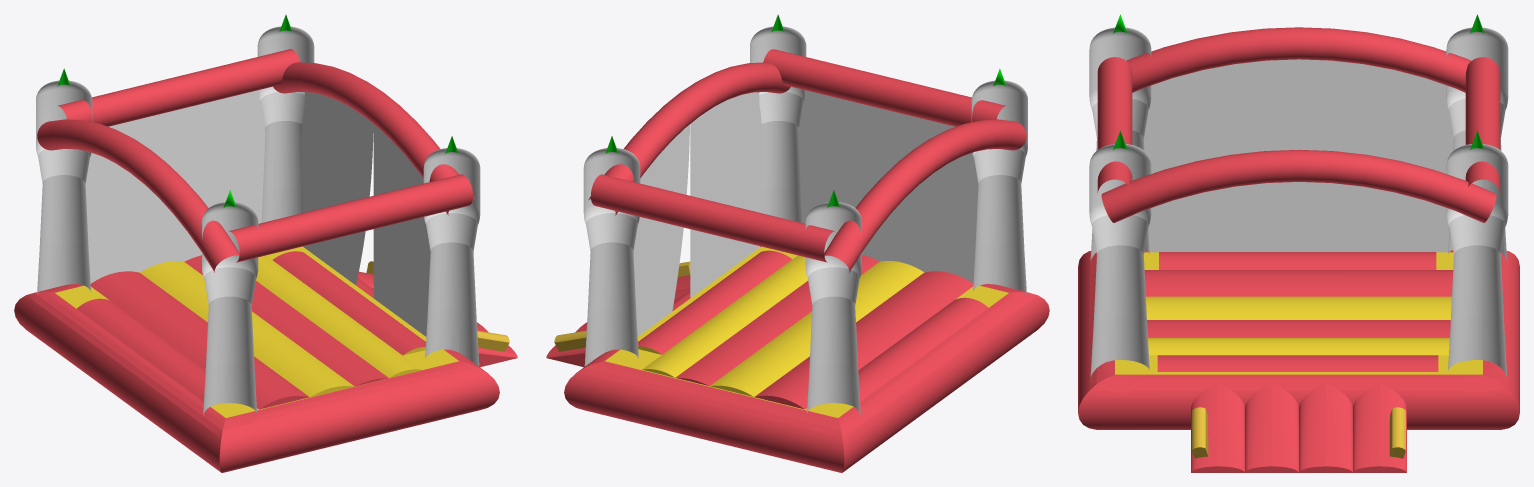
3 views of the same model, side by side, from view 1: azimuth 30°, elevation 25°; view 2: azimuth 150°, elevation 25°; view 3: azimuth 270°, elevation 25° (orthographic). The views are drawn at different scales.
Parts seen in each view (by area): view 1: Layer0_001, Group_001, Group_002, Group_005; view 2: Layer0_001, Group_001, Group_002, Group_004; view 3: Layer0_001, Group_001, Group_002, Group_004, Group_005.
Part boxes in pixels (x1,y1,x2,y2): Layer0_001: (14,14,499,472); Group_001: (37,49,475,272); Group_002: (357,271,517,367); Group_005: (477,330,509,351); Layer0_001: (564,14,1049,472); Group_001: (588,49,1026,272); Group_002: (546,275,690,367); Group_004: (554,330,586,351); Layer0_001: (1078,14,1519,429); Group_001: (1097,27,1500,222); Group_002: (1191,384,1406,472); Group_004: (1389,407,1405,458); Group_005: (1192,407,1208,458).
Bounding box in the file's own units: 234 × 175 × 238.
